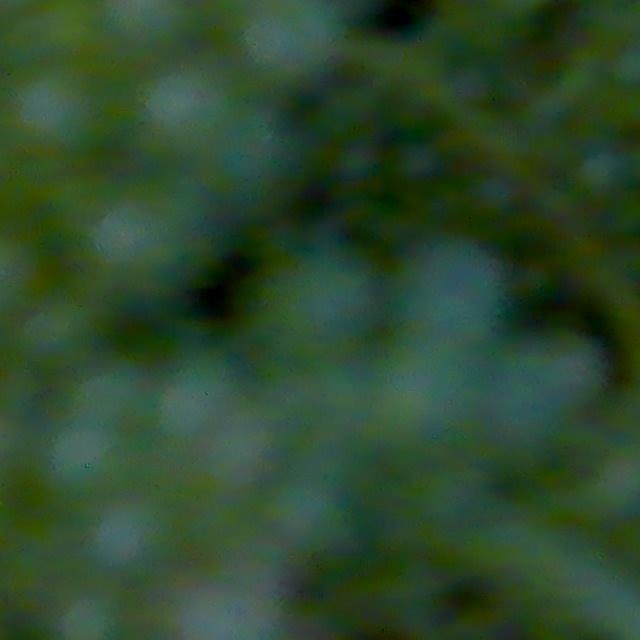SeaGrape: (256, 241, 377, 354), (481, 346, 593, 466), (372, 350, 468, 475), (393, 242, 494, 349), (76, 194, 185, 292), (10, 62, 114, 158), (135, 59, 227, 166), (150, 352, 244, 444), (84, 491, 177, 578), (43, 417, 131, 504), (243, 0, 343, 75), (16, 289, 100, 374), (256, 454, 339, 533), (97, 0, 197, 58), (25, 0, 105, 69), (52, 575, 135, 640)
